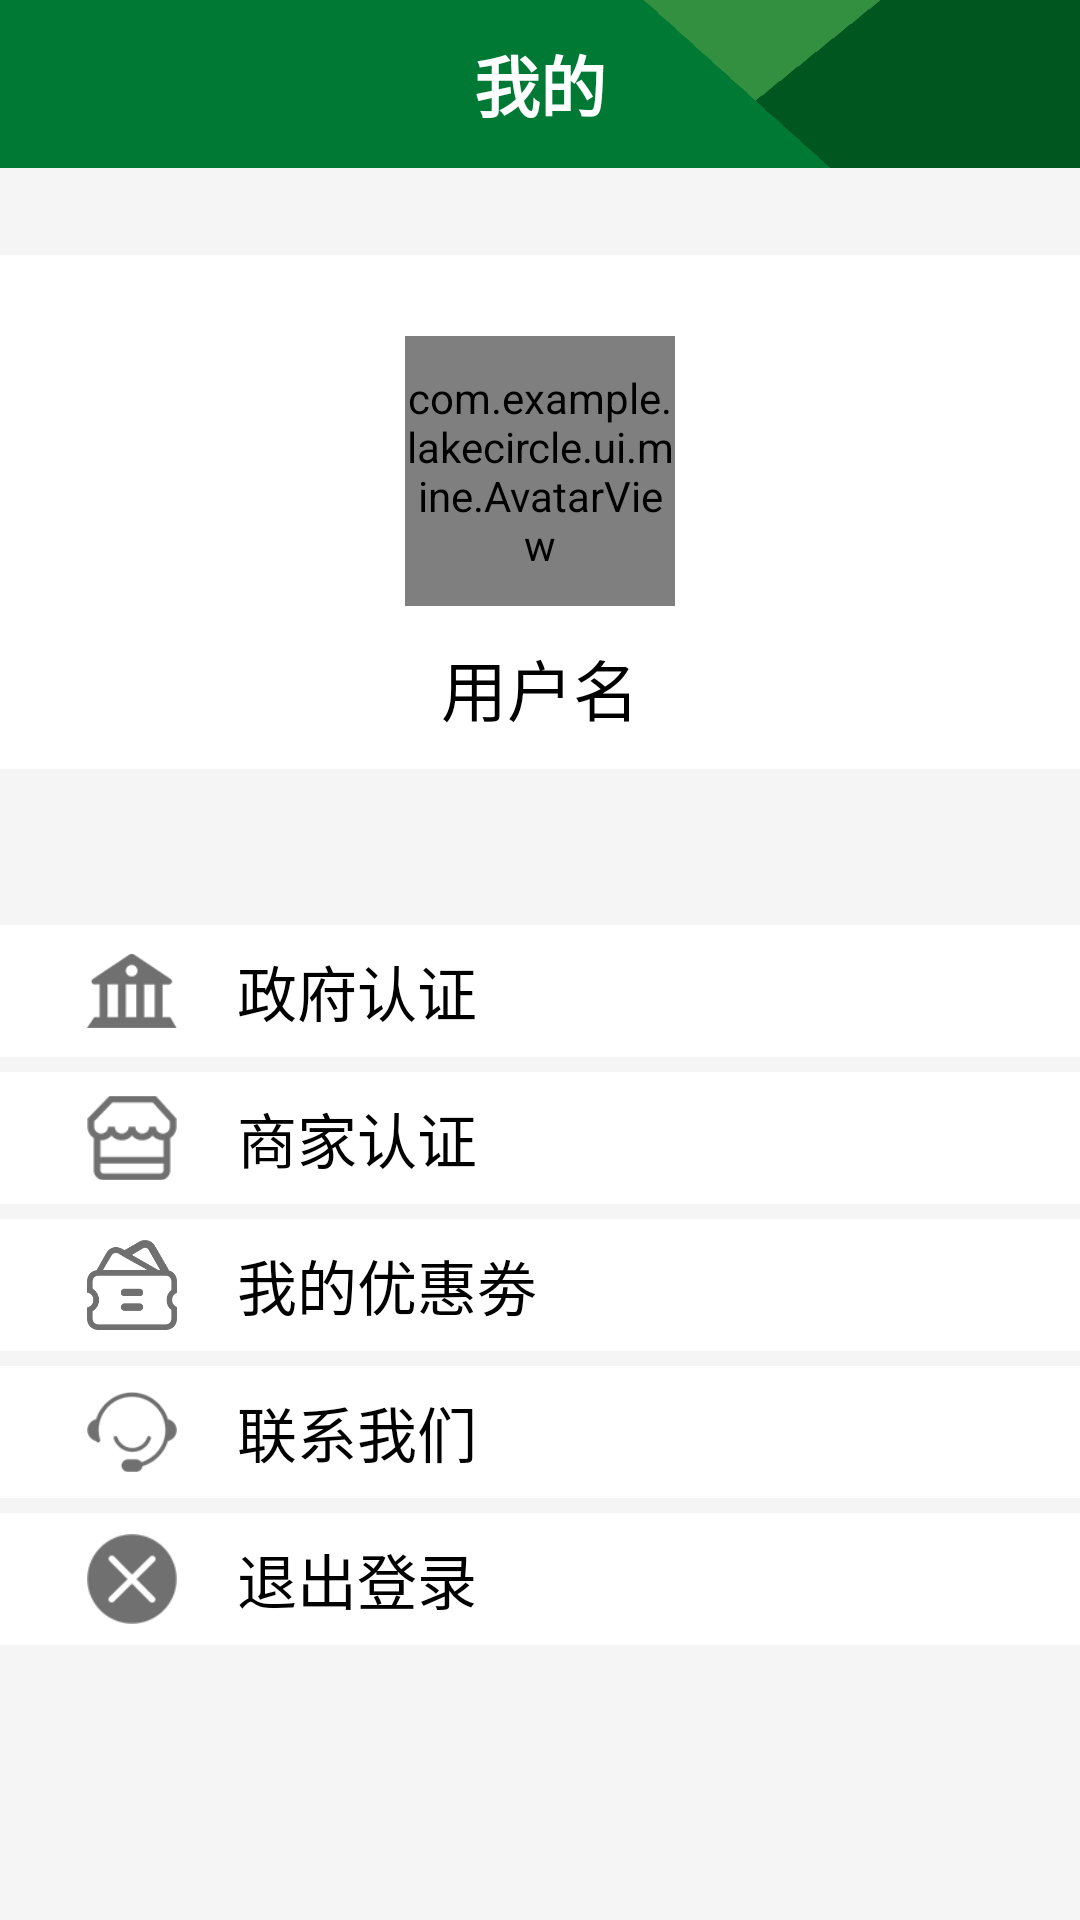

Named icons in this screenshot (1080px×1920px) and their bounding boxes, (x1, y1, x2, y2):
coupon mine: (87, 1240, 177, 1330)
government mine: (87, 954, 177, 1028)
helper: (87, 1392, 177, 1472)
merchant mine: (87, 1096, 177, 1180)
